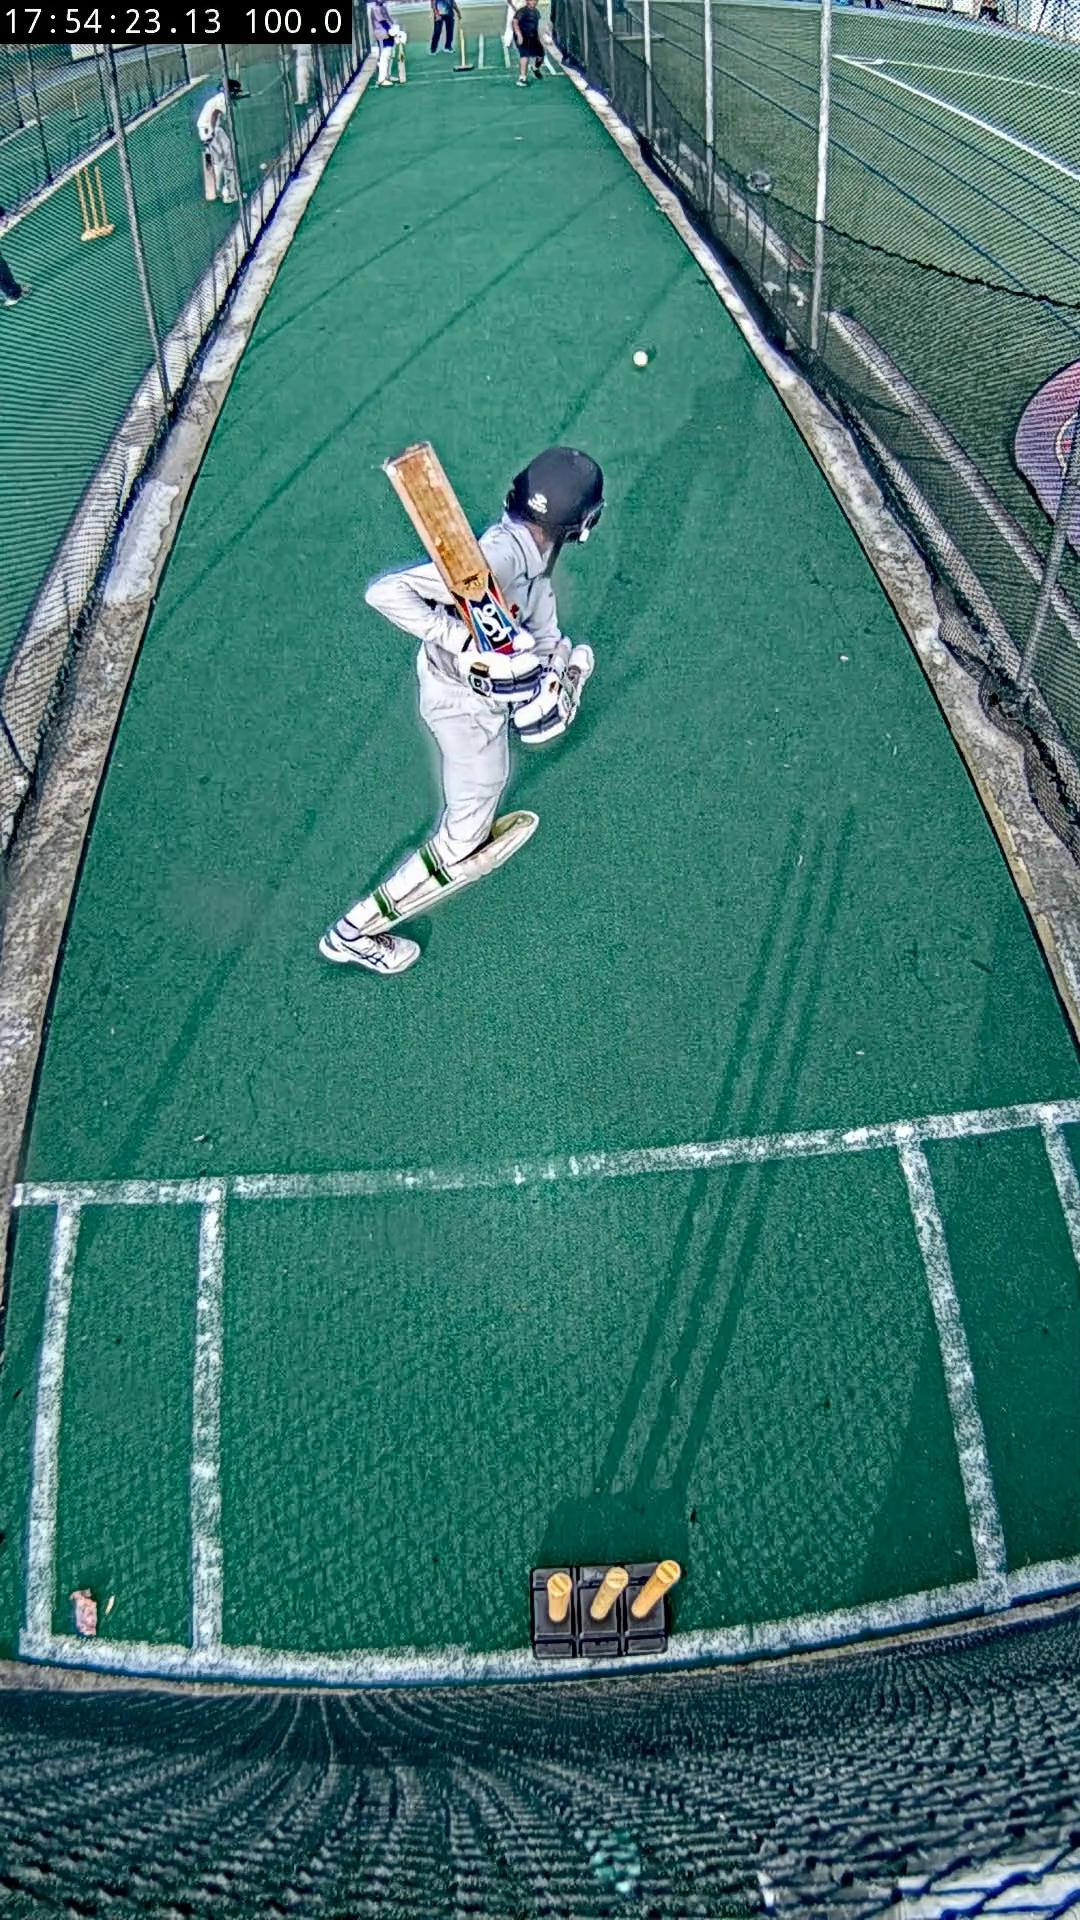ball: (634, 348, 649, 365)
bat: (382, 443, 517, 650)
gloves: (458, 649, 578, 744)
helmet: (506, 446, 604, 547)
pads: (364, 810, 541, 934)
stumps: (529, 1560, 683, 1662)
